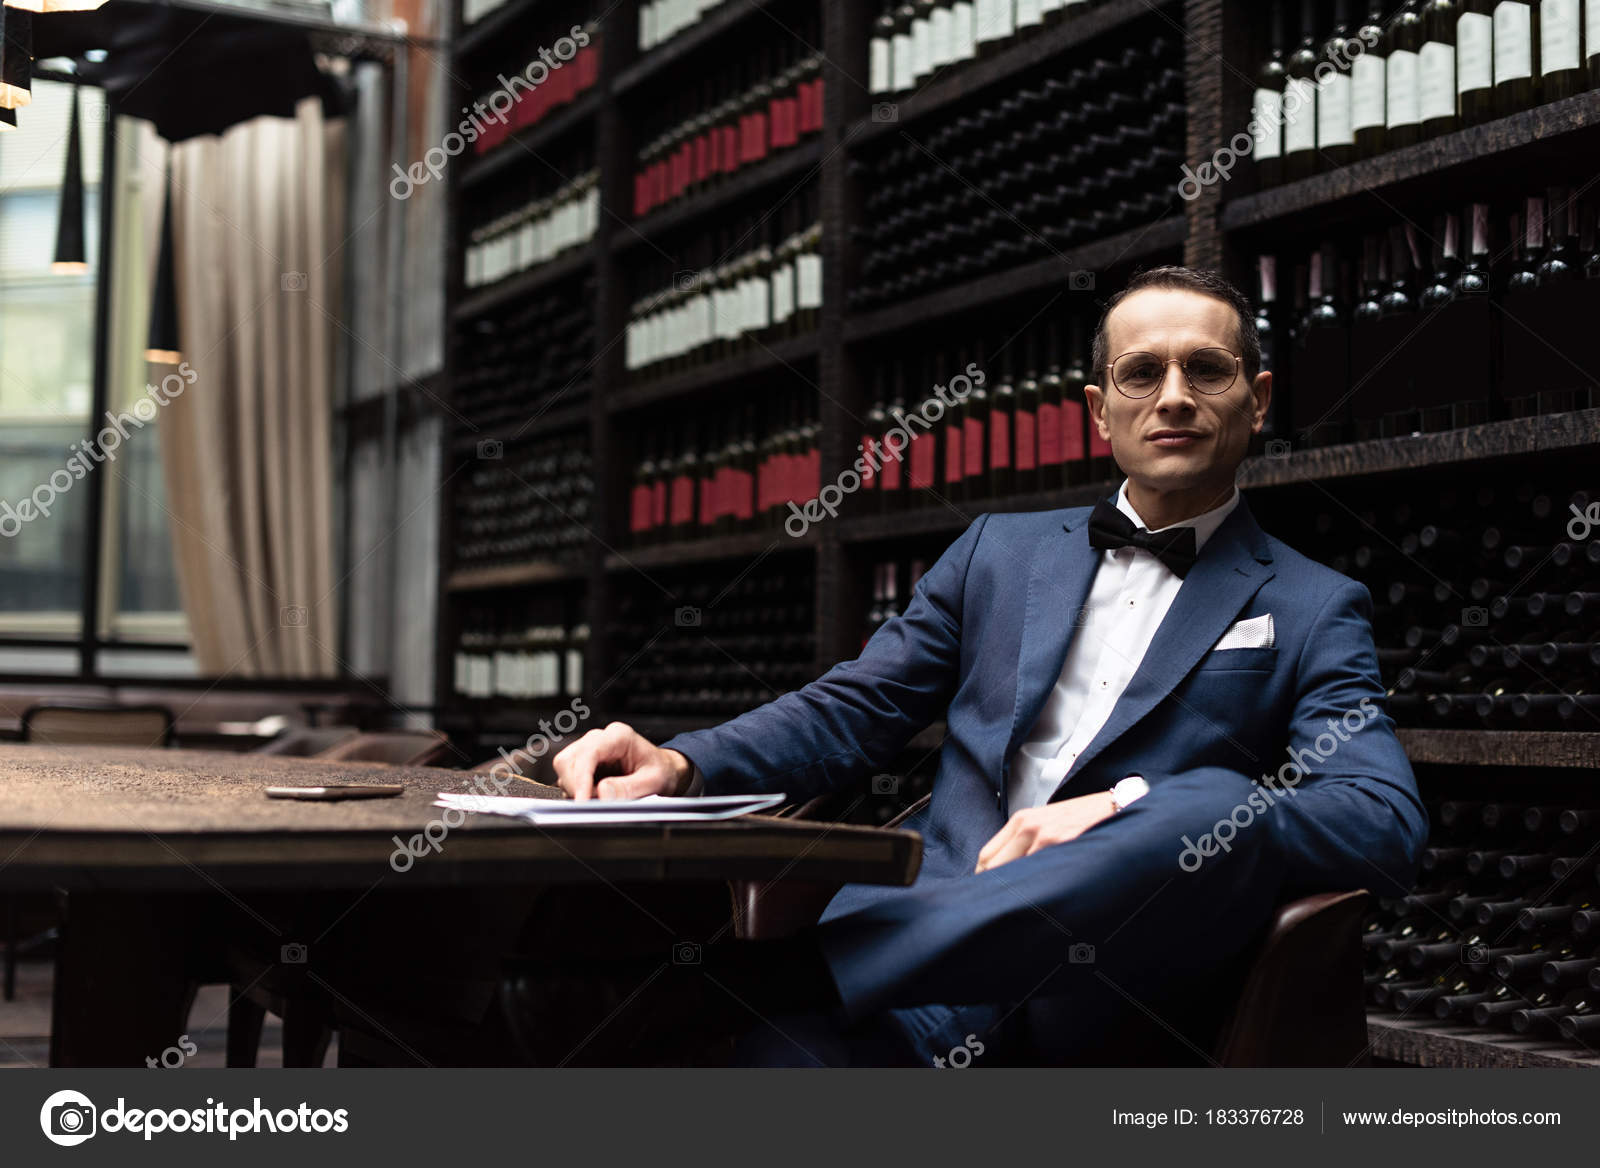chairs: (821, 782, 1393, 1067)
